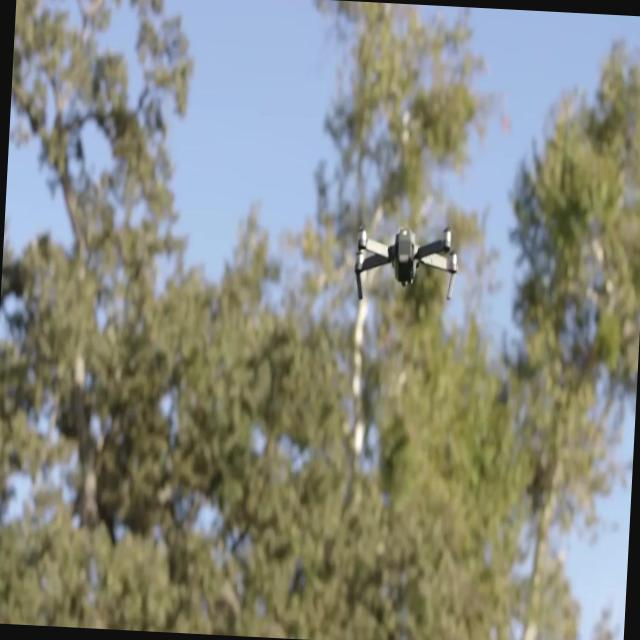drone: (352, 218, 464, 304)
